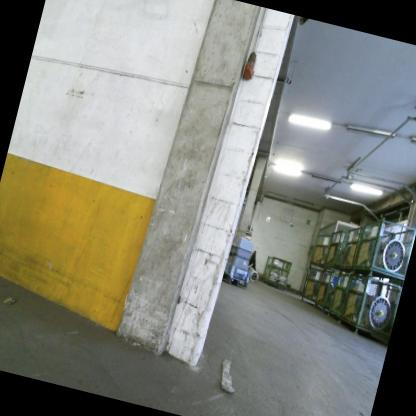pallet: (222, 273, 250, 289)
stillage: (337, 269, 403, 344), (352, 210, 416, 284), (326, 270, 387, 336), (339, 217, 396, 281), (313, 265, 356, 317), (300, 263, 337, 309), (322, 224, 353, 274), (260, 252, 296, 291), (308, 228, 335, 269)
